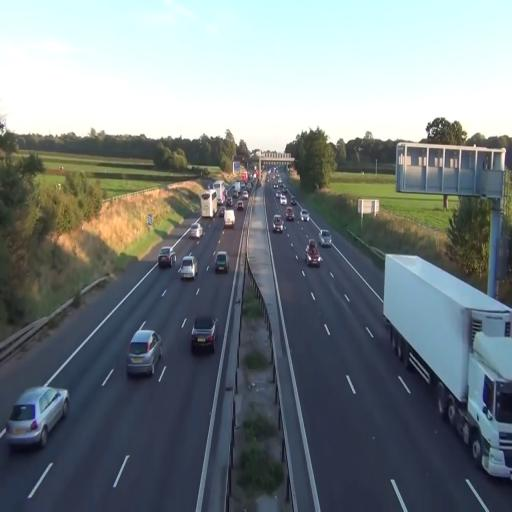vehicle: (382, 252, 512, 480), (6, 385, 70, 449), (126, 328, 164, 378), (190, 316, 218, 355), (179, 255, 198, 282), (305, 240, 321, 266), (157, 247, 173, 269), (188, 220, 204, 242), (214, 250, 228, 273), (272, 214, 284, 233), (224, 208, 235, 228), (320, 229, 332, 246), (300, 211, 310, 221)
